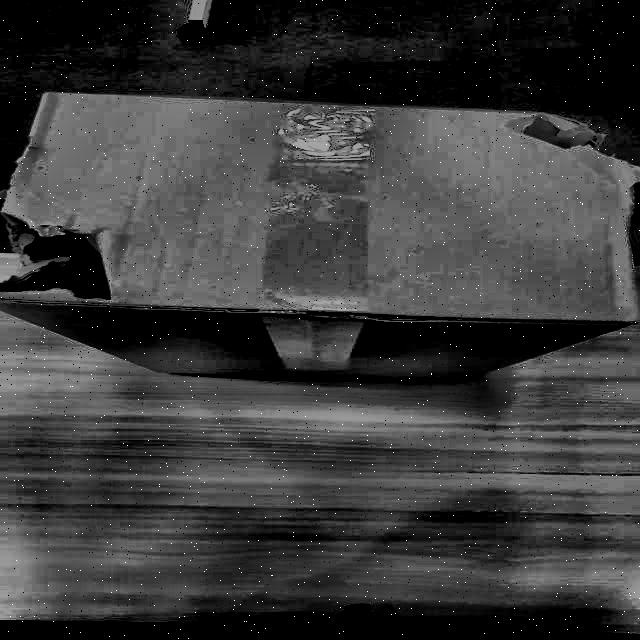box: (1, 81, 640, 398)
hole: (516, 109, 640, 259), (1, 213, 119, 312)
